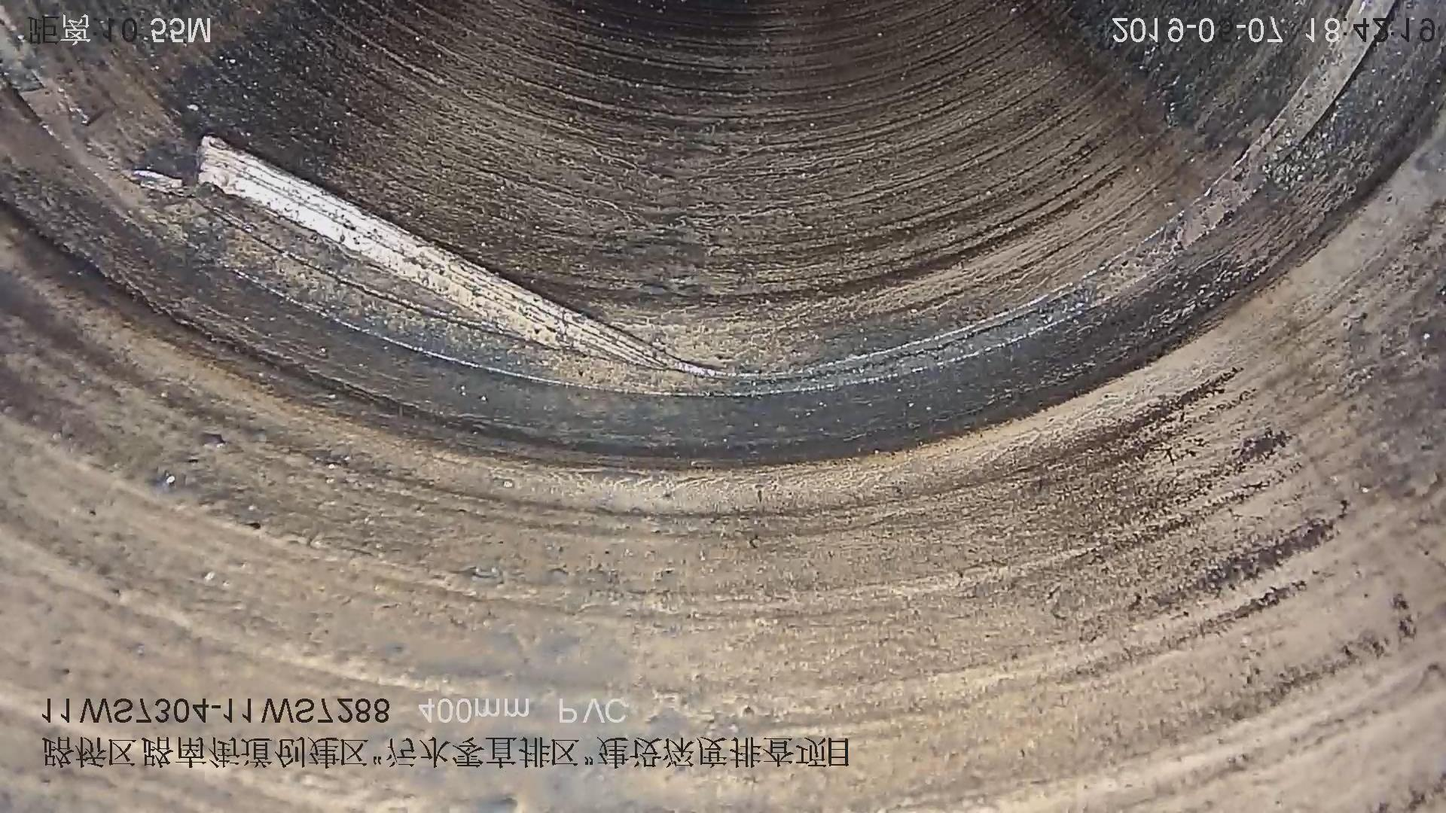CKTJ: (0, 1, 1396, 396)
JKCL: (199, 136, 718, 374)
